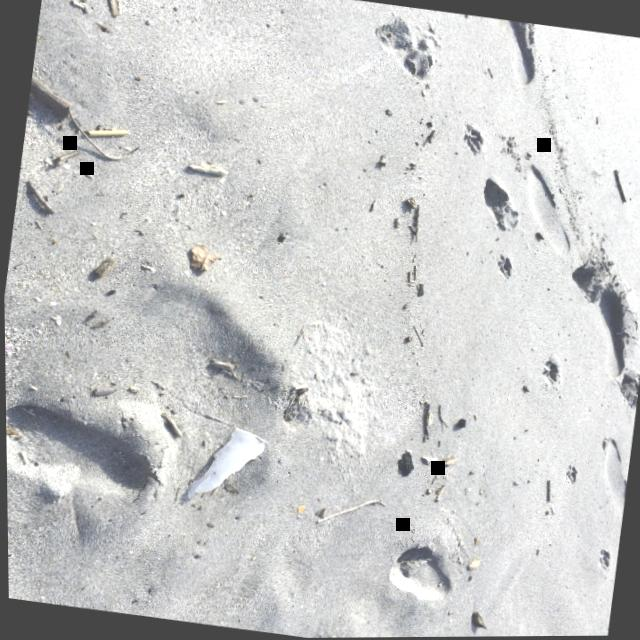Other plastic bottle: (187, 428, 265, 497), (297, 505, 304, 513)
